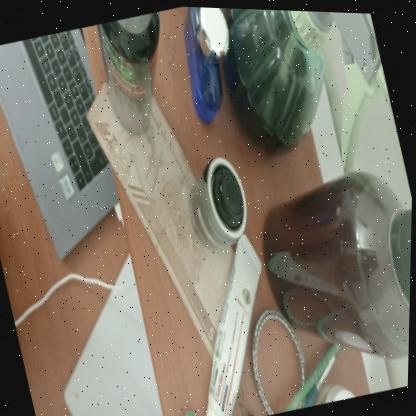five-back-vef: (75, 58, 264, 376)
